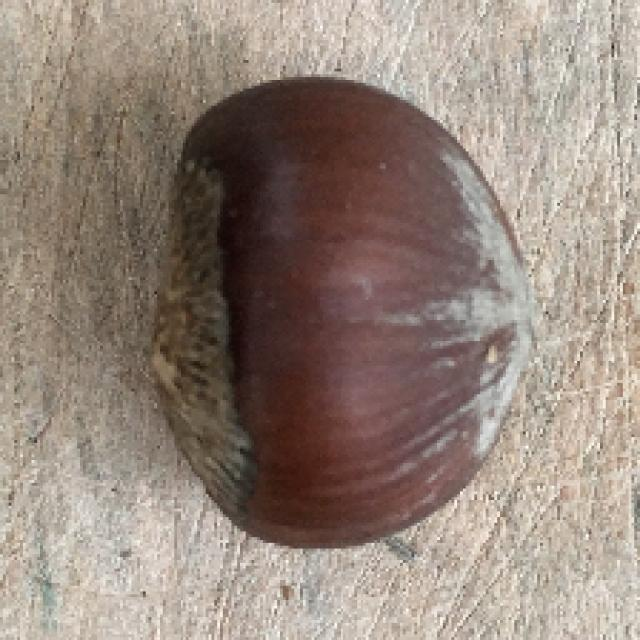damagedHazelnut: (145, 62, 537, 564)
